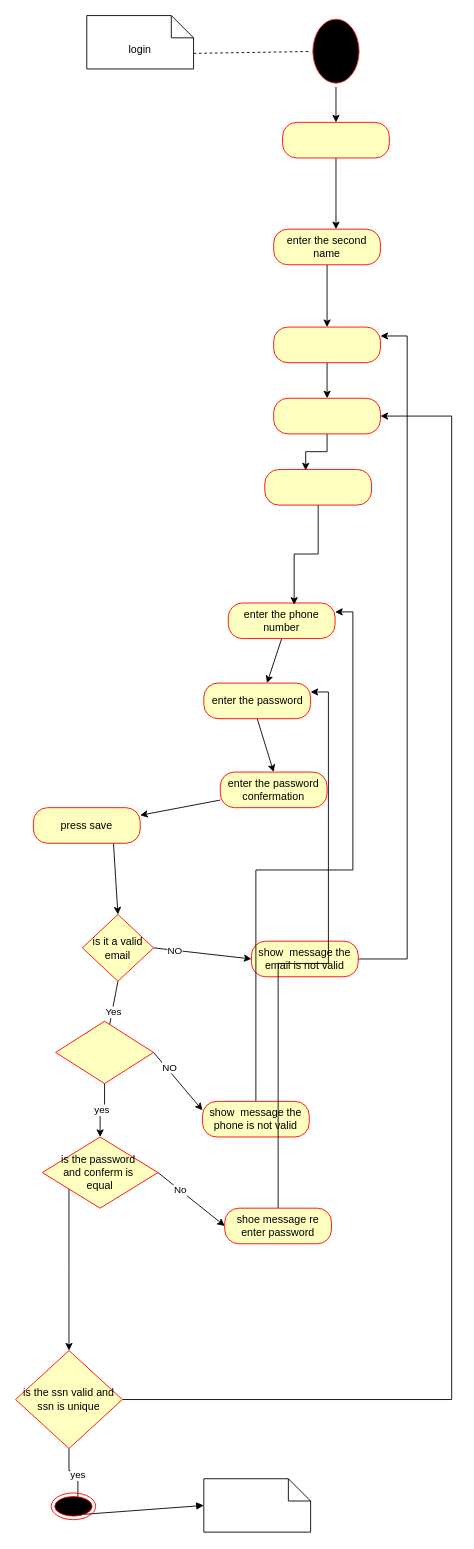
The diagram is 474 pixels wide and 1549 high, and some of its shapes have lost their labels. Here are the shapes that lost their labels. From the top down, the centre of each, then its label:
(335,139): enter first_name
(326,344): enter the email
(326,415): enter the ssn
(318,487): choose the job type
(104,1052): is it a valid phone
(257,1505): connect farm and farmer
